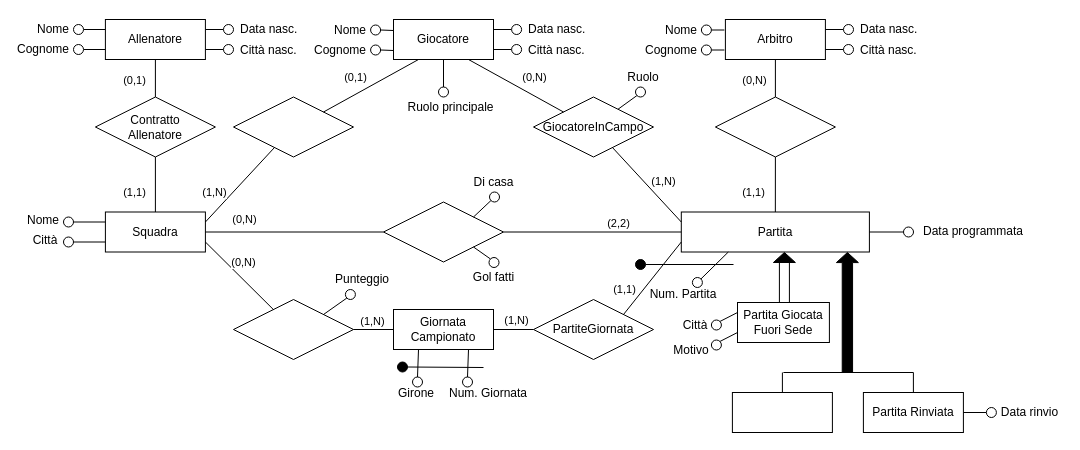
Some shapes in this 1080 by 450 pixel diagram are drawn without their labels. Each missing label, with the box of its shape:
Classifica: (232, 298, 354, 360)
Contendente: (382, 201, 504, 262)
Contratto Giocatore: (232, 96, 354, 157)
Direzione: (714, 96, 835, 157)
Partita Giocata Regolarmente: (731, 392, 832, 432)
